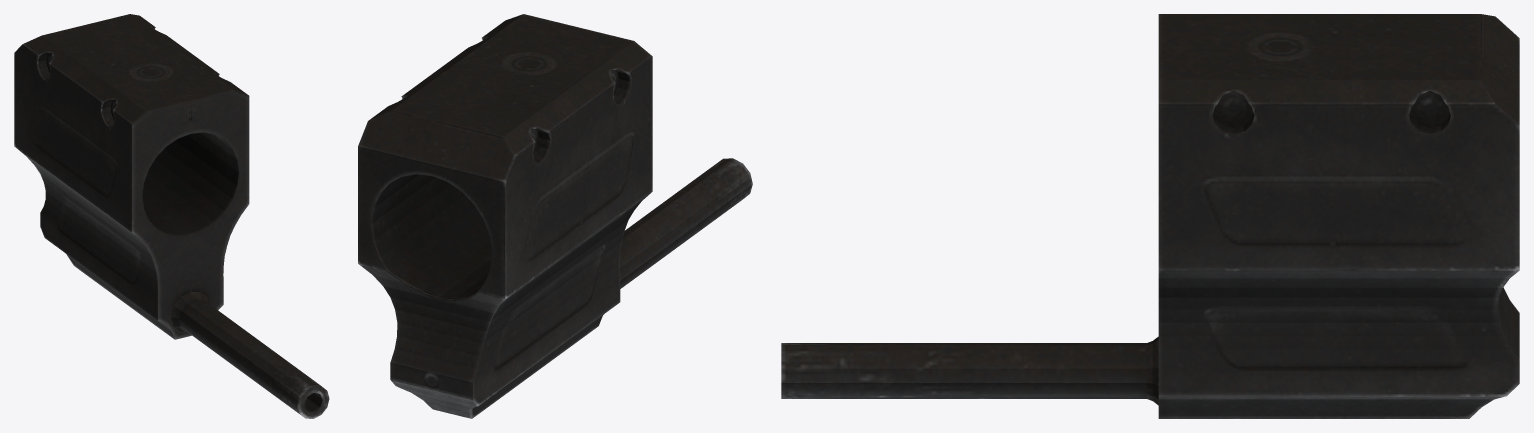
The picture shows the model from 3 angles, left to right: view 1: azimuth 30°, elevation 25°; view 2: azimuth 150°, elevation 25°; view 3: azimuth 270°, elevation 25°; orthographic projection. The views are drawn at different scales.
Parts seen in each view (by area): view 1: TW_5fc2360f900b1d5091531e19_PZ_Import; view 2: TW_5fc2360f900b1d5091531e19_PZ_Import; view 3: TW_5fc2360f900b1d5091531e19_PZ_Import.
Boxes of the visible parts, <box> form: TW_5fc2360f900b1d5091531e19_PZ_Import: <box>14,14,329,418</box>; TW_5fc2360f900b1d5091531e19_PZ_Import: <box>358,14,752,418</box>; TW_5fc2360f900b1d5091531e19_PZ_Import: <box>781,14,1519,418</box>.
Size of the model in its own units: 0.0144 by 0.0512 by 0.0276.
Materials: 1 (1 with a texture image).
